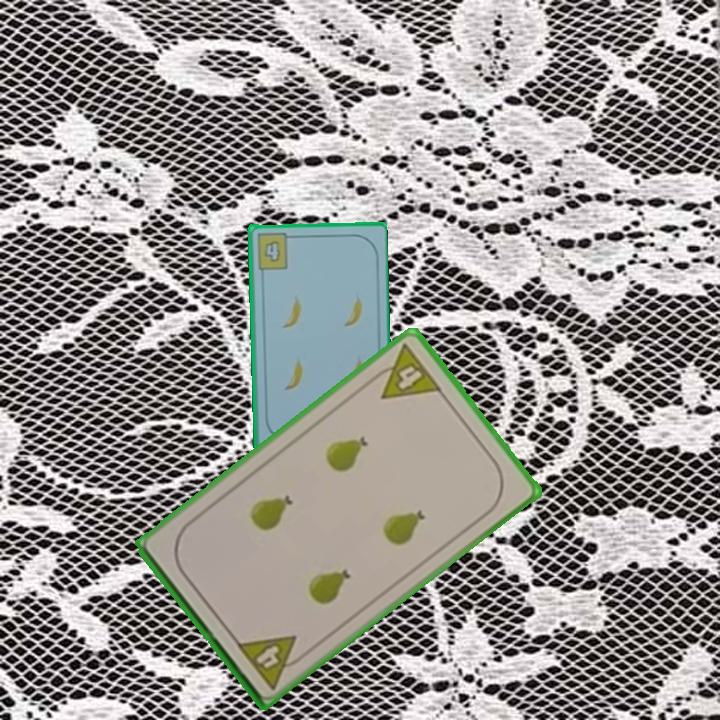4b: (254, 230, 296, 272)
4p: (365, 339, 445, 402), (232, 631, 310, 692)
